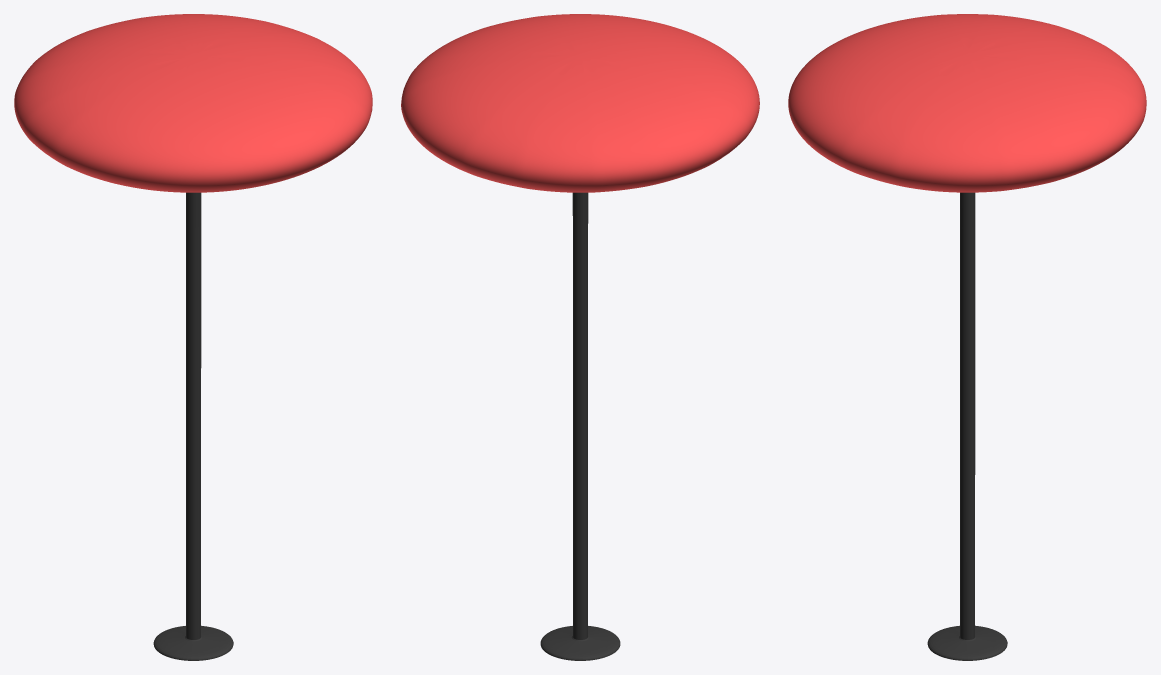
The model's file is Stool.fbx.
3 views of the same model, side by side, from view 1: azimuth 30°, elevation 25°; view 2: azimuth 150°, elevation 25°; view 3: azimuth 270°, elevation 25° (orthographic).
Parts seen in each view (by area): view 1: Stool_Trunk, Stool_Stand; view 2: Stool_Trunk, Stool_Stand; view 3: Stool_Trunk, Stool_Stand.
Boxes of the visible parts, <box> form: Stool_Trunk: <box>14,14,372,192</box>; Stool_Stand: <box>153,192,233,660</box>; Stool_Trunk: <box>401,14,759,192</box>; Stool_Stand: <box>540,192,620,660</box>; Stool_Trunk: <box>788,14,1146,192</box>; Stool_Stand: <box>927,192,1007,660</box>.
Bounding box in the file's own units: 43.61 × 79.03 × 43.61.
